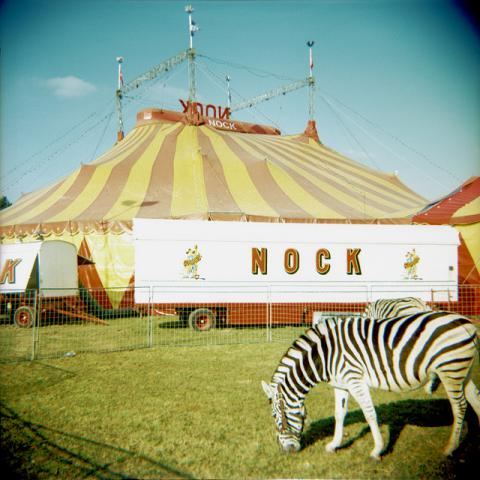truck: (134, 219, 480, 333), (1, 240, 80, 328)
